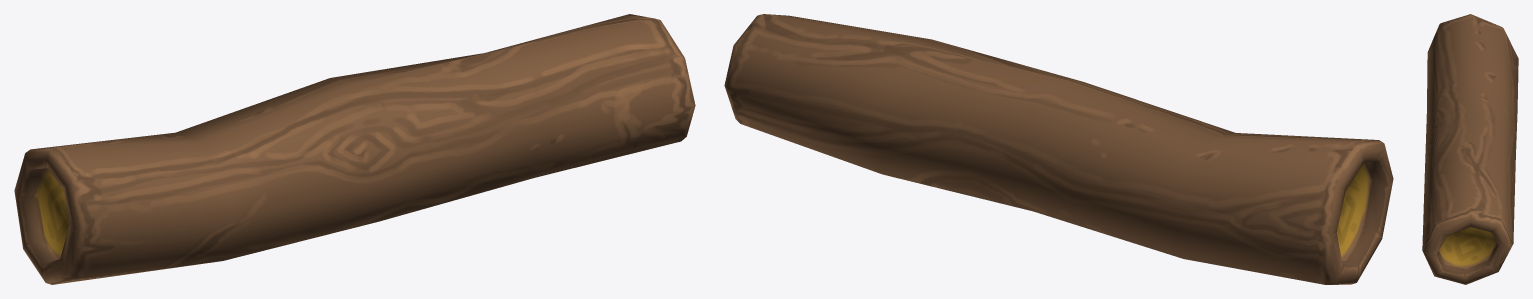
File: Odun 03.fbx
3 views of the same model, side by side, from view 1: azimuth 30°, elevation 25°; view 2: azimuth 150°, elevation 25°; view 3: azimuth 270°, elevation 25° (orthographic). The views are drawn at different scales.
Parts seen in each view (by area): view 1: log02.001; view 2: log02.001; view 3: log02.001.
Boxes of the visible parts, box(x1,y1,x2,y2) form: log02.001: box(14, 14, 695, 284); log02.001: box(724, 14, 1393, 284); log02.001: box(1422, 14, 1518, 284).
Size of the model in its own units: 301 by 69.25 by 63.67.
1 material, 1 textured.
